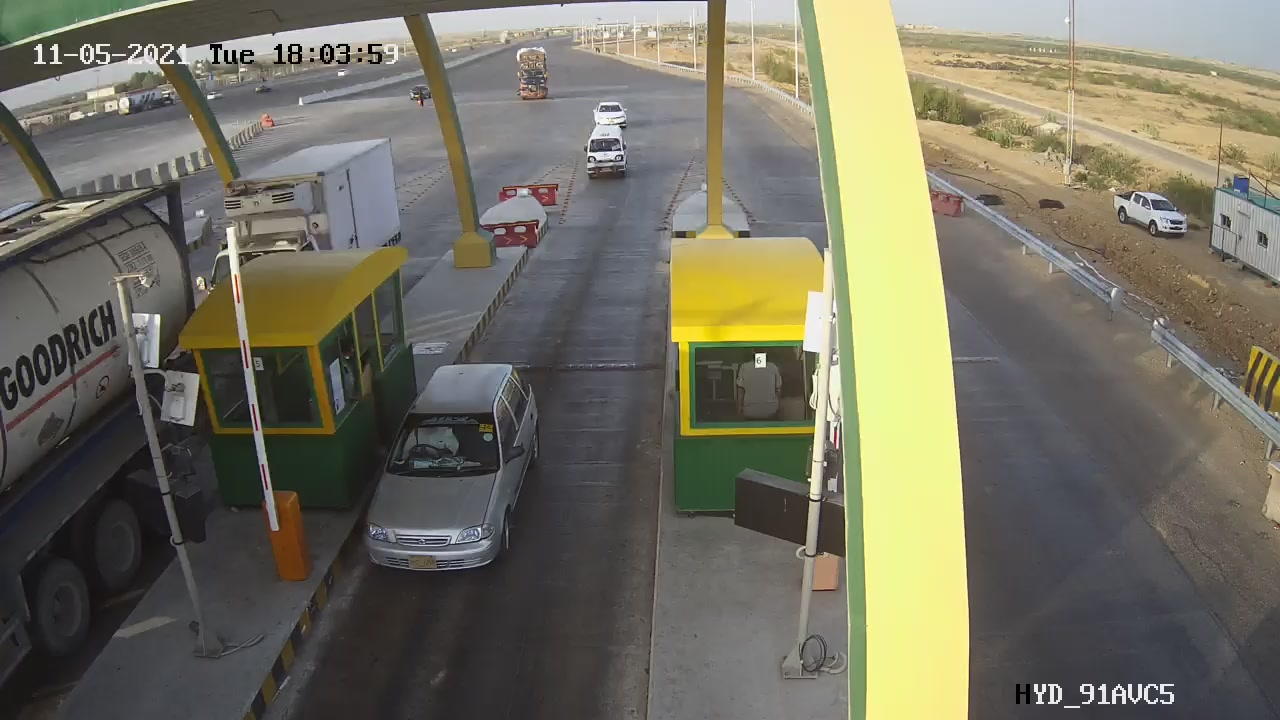F1: (342, 346, 564, 588)
